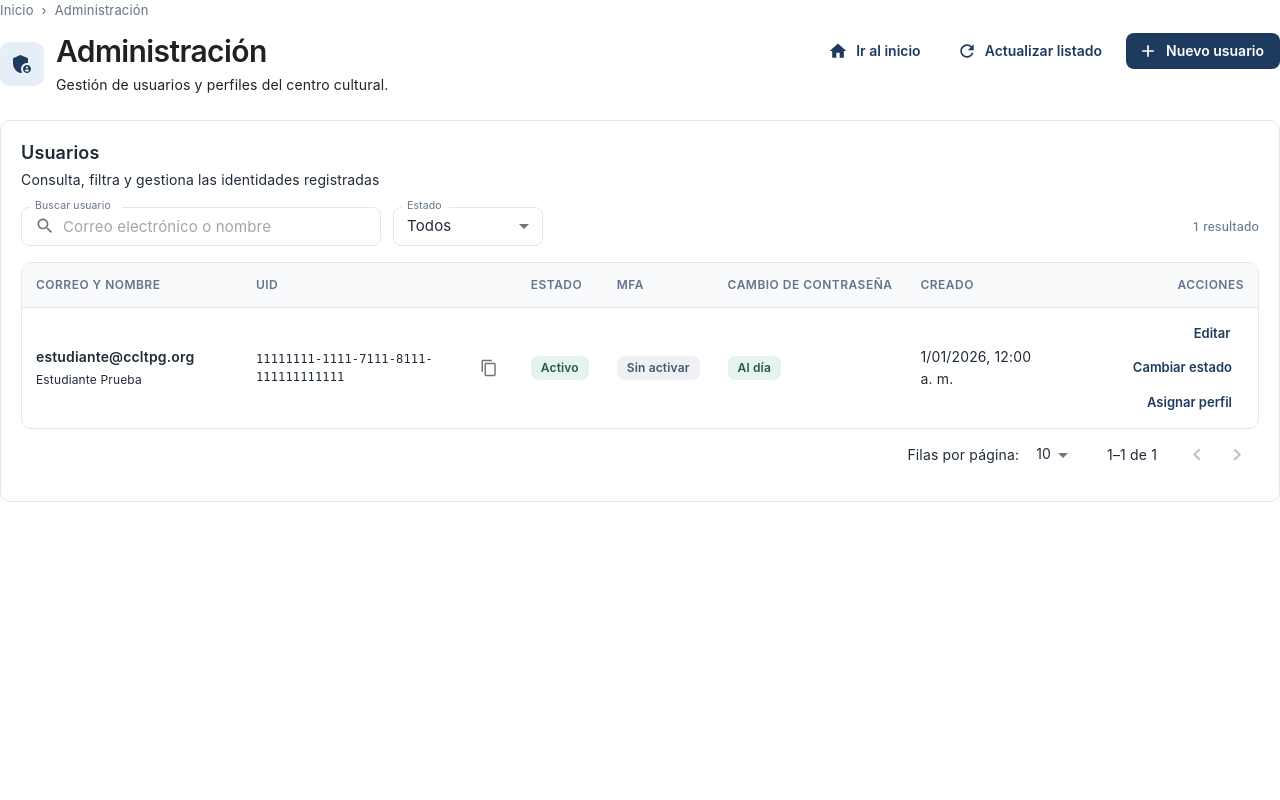
diálogos de Administración de usuarios › el botón "Nuevo usuario" abre un diálogo con su acción visible a 768 px
expect the text "11111111-1111-7111-8111-111111111111" is shown: met, box [256, 352, 433, 384]
Click the button "Nuevo usuario" at (1203, 51), box [1126, 33, 1279, 69]
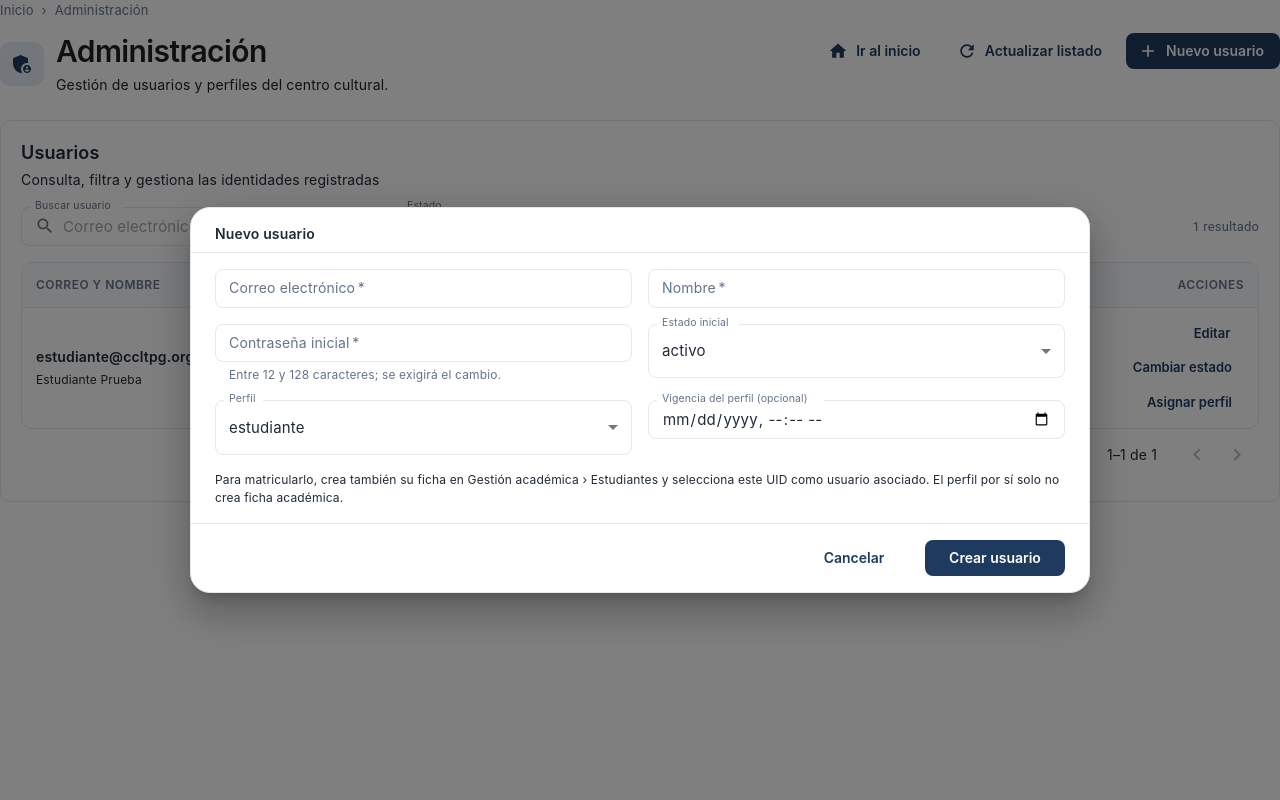
expect the dialog is shown: met, box [190, 207, 1090, 593]
expect the button "Crear usuario" is shown: met, box [925, 540, 1065, 576]
Click the button "Cancelar" at (854, 558), box [799, 540, 909, 576]
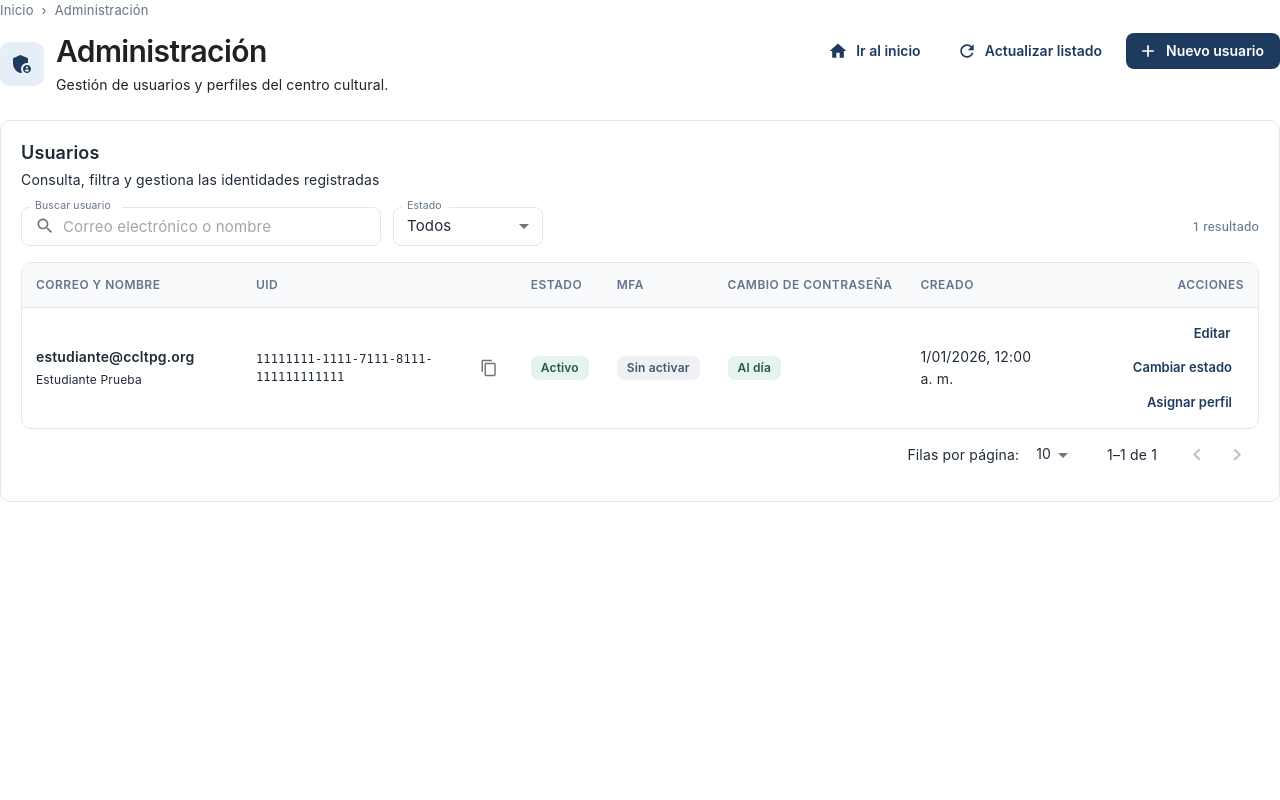
expect the dialog is gone: met
